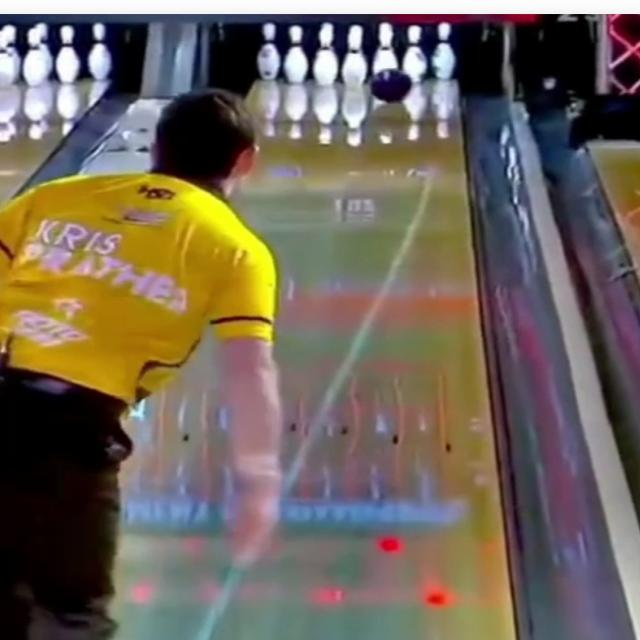alley: (117, 80, 514, 639)
balls: (370, 69, 411, 103)
bottle: (256, 23, 455, 85)
